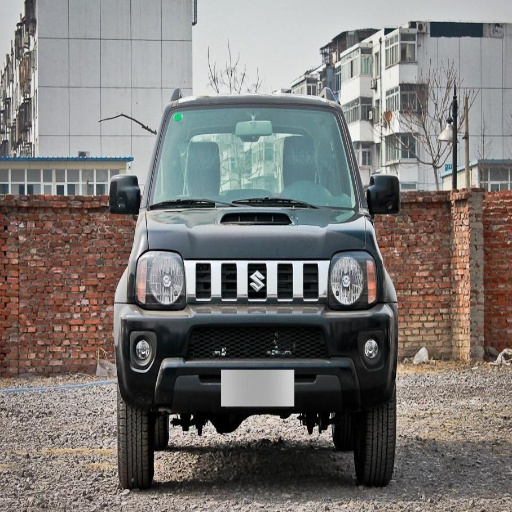front_bumper: (116, 259, 394, 406)
front_right_light: (129, 249, 185, 308)
hood: (147, 210, 368, 258)
left_mirror: (368, 175, 401, 213)
